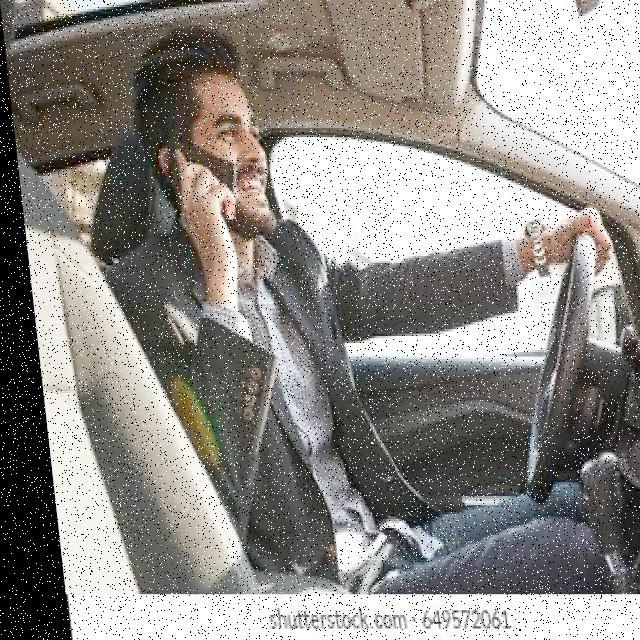noSeatbelt: (139, 196, 394, 552)
